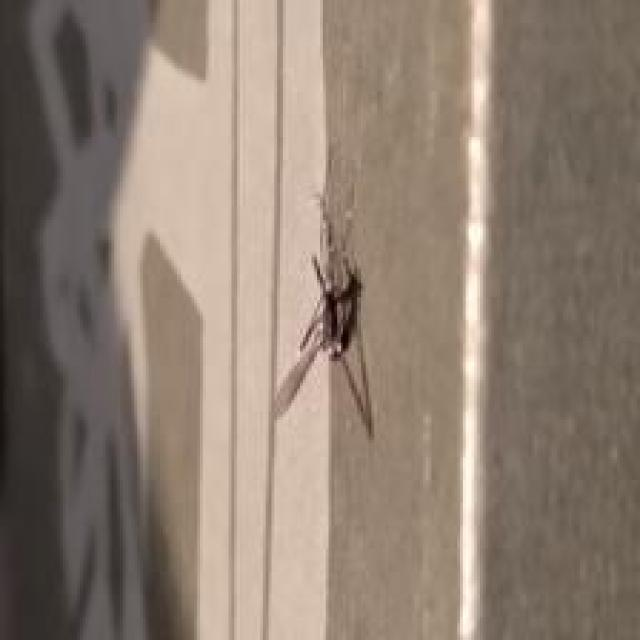Aedes albopictus: (272, 191, 374, 440)
